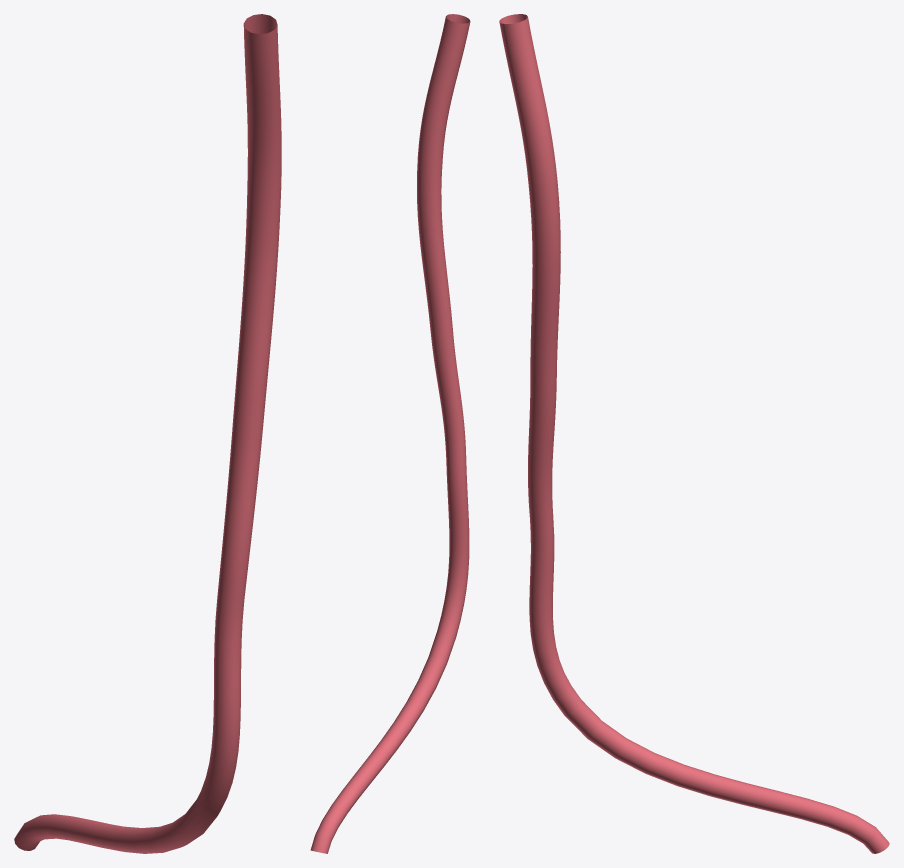
The picture shows the model from 3 angles, left to right: view 1: azimuth 30°, elevation 25°; view 2: azimuth 150°, elevation 25°; view 3: azimuth 270°, elevation 25°; orthographic projection. The views are drawn at different scales.
Parts seen in each view (by area): view 1: ZA_9d5f838eeb2674ac; view 2: ZA_9d5f838eeb2674ac; view 3: ZA_9d5f838eeb2674ac.
Boxes of the visible parts, box(x1,y1,x2,y2) form: ZA_9d5f838eeb2674ac: box(14, 14, 281, 853); ZA_9d5f838eeb2674ac: box(310, 14, 470, 853); ZA_9d5f838eeb2674ac: box(499, 14, 889, 853).
Bounding box in the file's own units: 0.00469 × 0.0633 × 0.0265.
